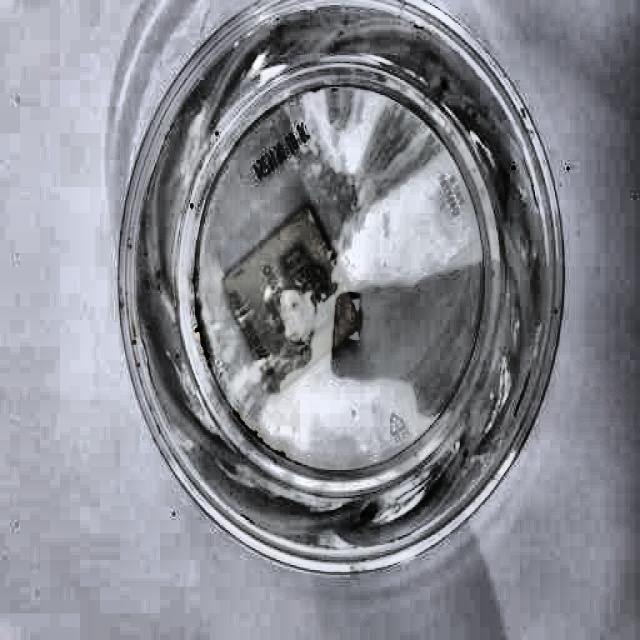plastic: (113, 0, 568, 575)
